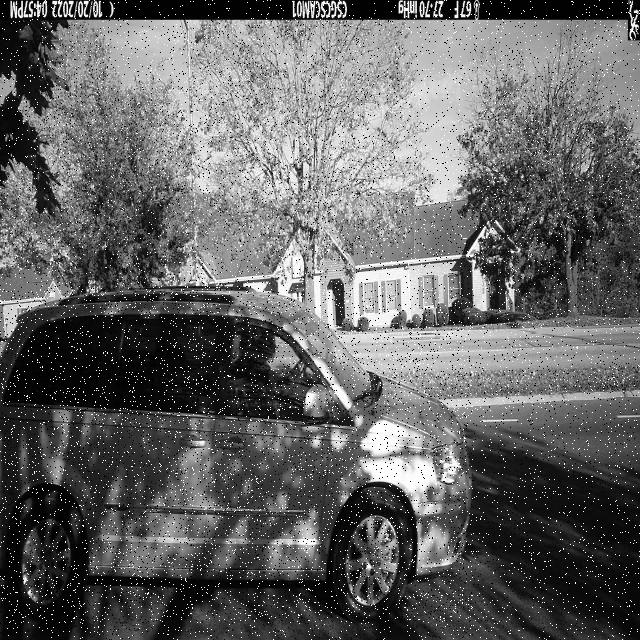Van: (0, 287, 473, 623)
